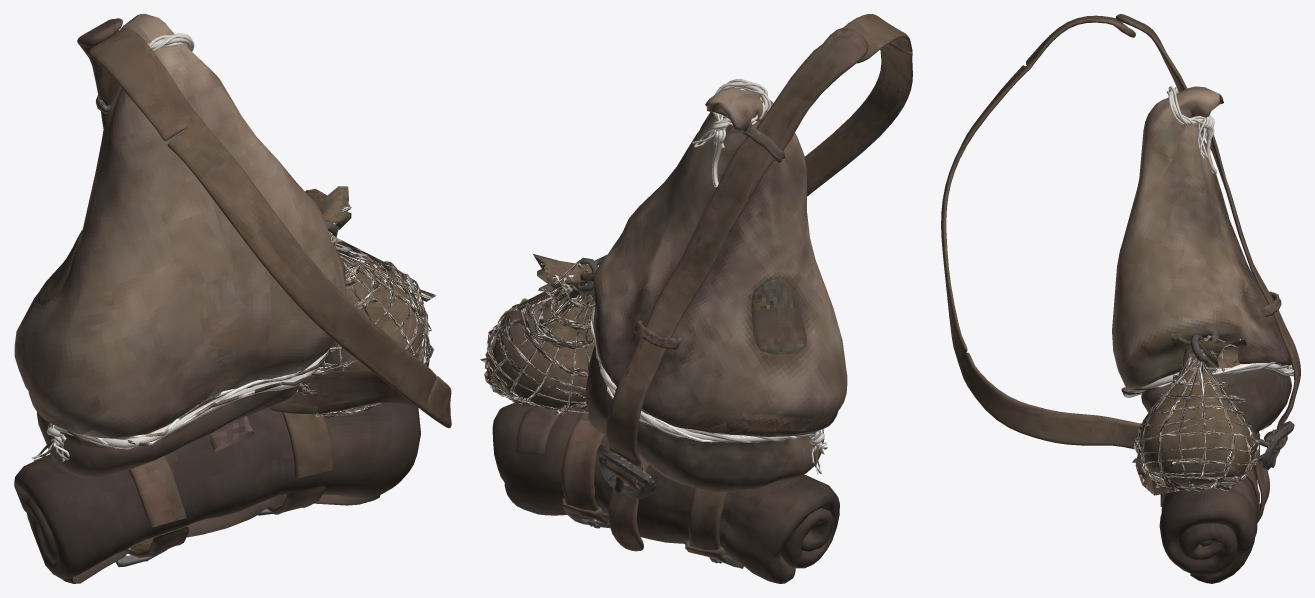
Rendered from natural-travel-pack-weathered.glb.
The picture shows the model from 3 angles, left to right: view 1: azimuth 30°, elevation 25°; view 2: azimuth 150°, elevation 25°; view 3: azimuth 270°, elevation 25°; orthographic projection. The views are drawn at different scales.
Parts seen in each view (by area): view 1: natural-travel-pack-weathered runtime mesh; view 2: natural-travel-pack-weathered runtime mesh; view 3: natural-travel-pack-weathered runtime mesh.
Boxes of the visible parts, x1,y1,x2,y2 form: natural-travel-pack-weathered runtime mesh: [14, 14, 451, 583]; natural-travel-pack-weathered runtime mesh: [480, 14, 912, 583]; natural-travel-pack-weathered runtime mesh: [941, 14, 1300, 583].
Bounding box in the file's own units: 0.3309 × 0.48 × 0.3386.
2 materials, 2 textured.
